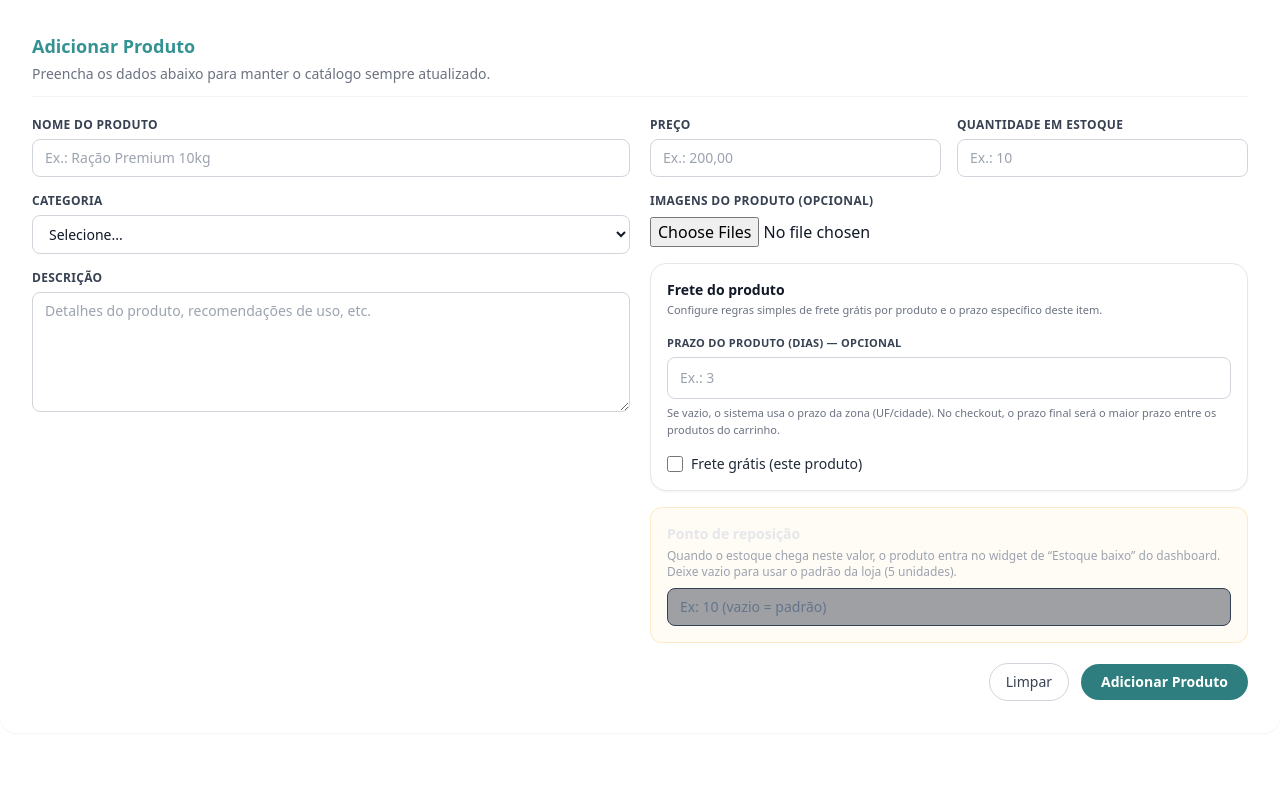
ProdutoForm (components/admin/ProdutoForm.tsx) › renderiza modo Adicionar e bloqueia submit com validação (nome obrigatório)
Expected: the heading "Adicionar Produto" is shown, [32, 34, 195, 58]
Type "200,00" into the field with placeholder "Ex.: 200,00" at (796, 158), box [650, 139, 941, 177]
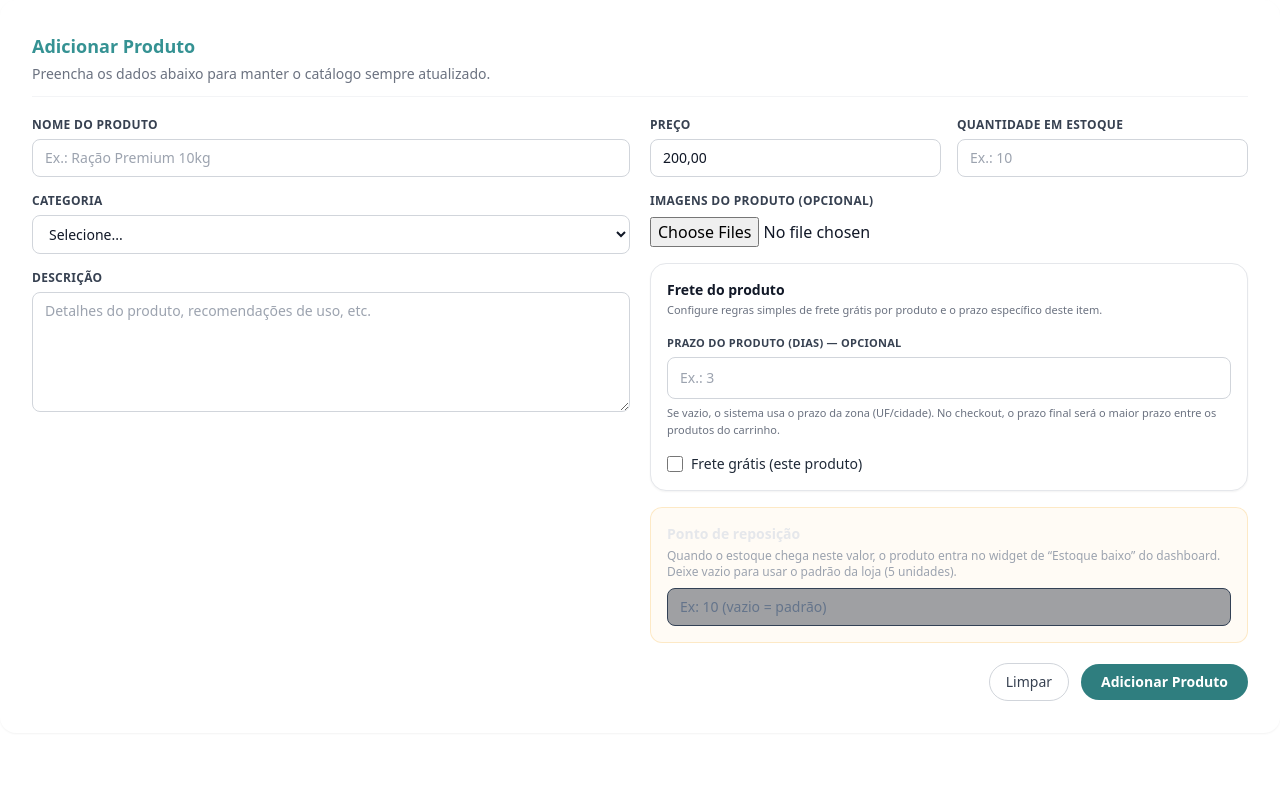
Type "10" into the field with placeholder "Ex.: 10" at (1102, 158), box [957, 139, 1248, 177]
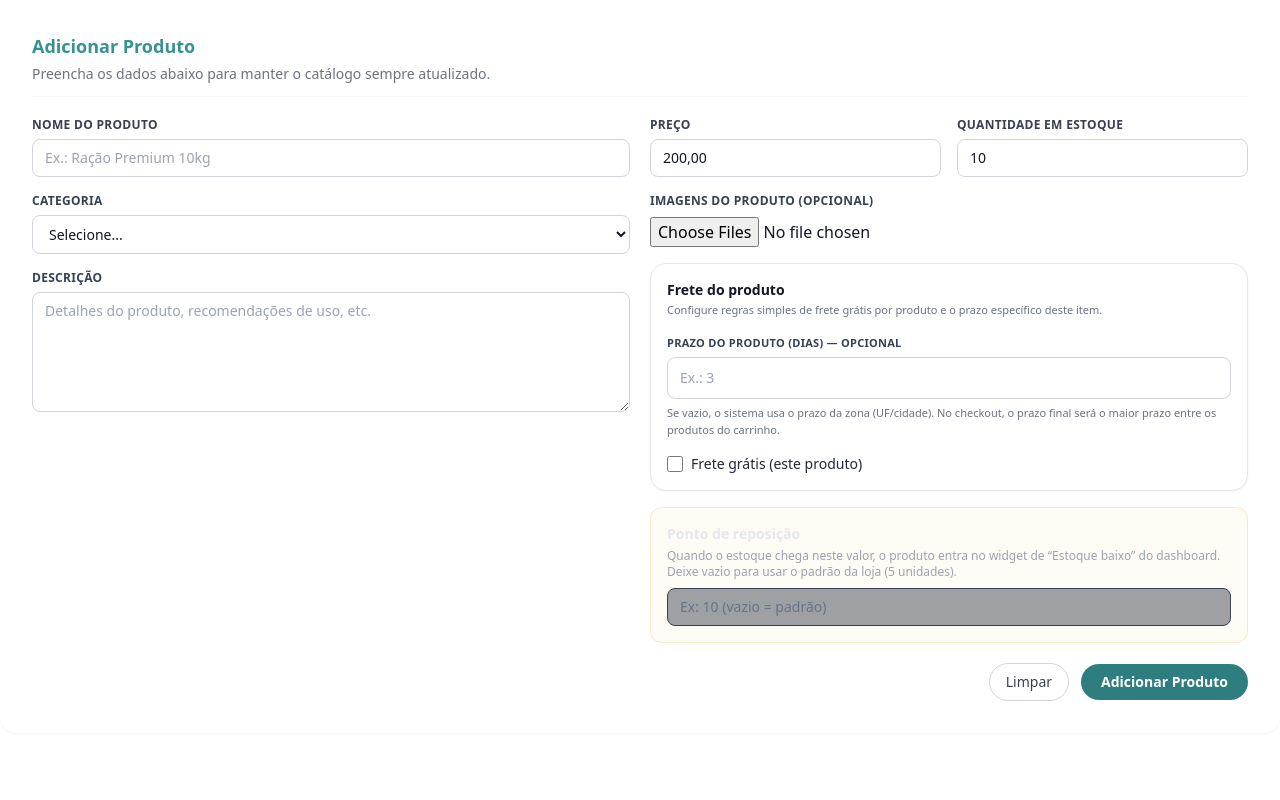
Click the button "Adicionar Produto" at (1165, 682), box [1081, 664, 1248, 700]
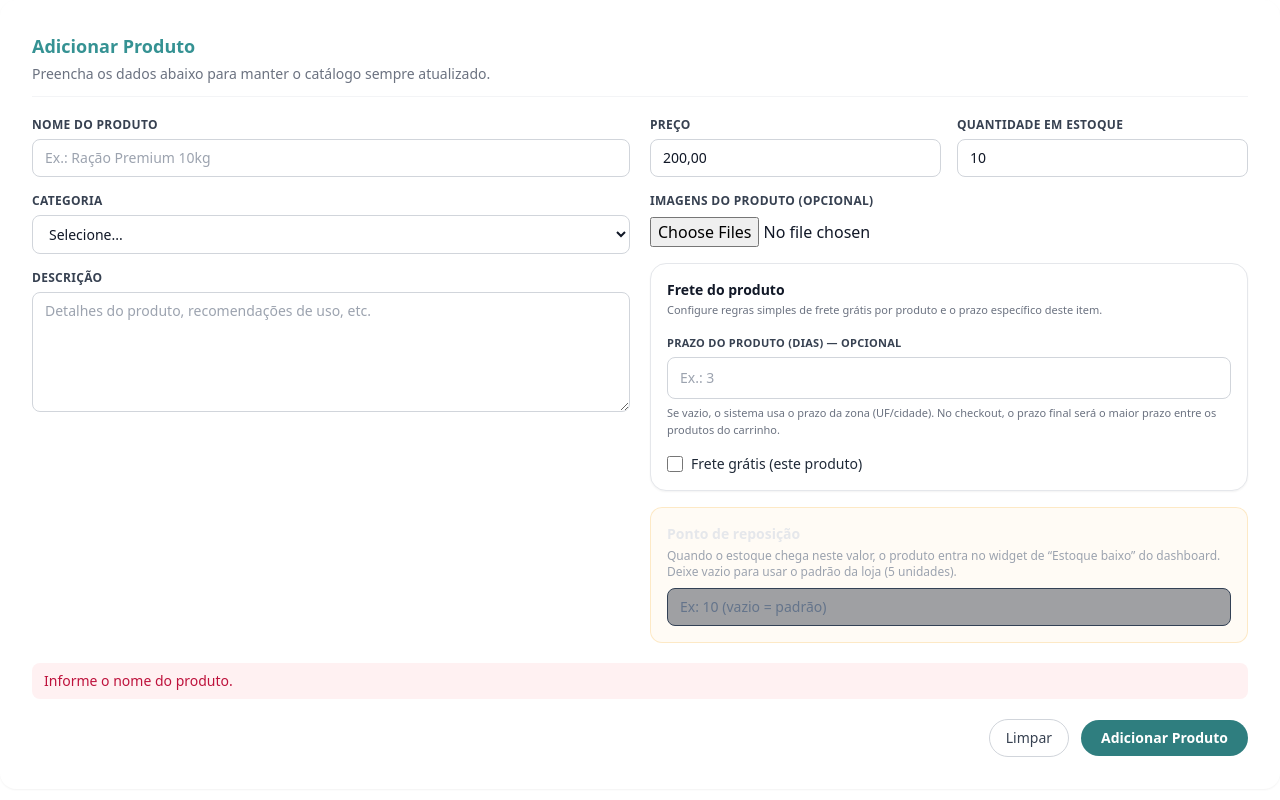
Result: the text "Informe o nome do produto." is shown at [32, 663, 1248, 699]
